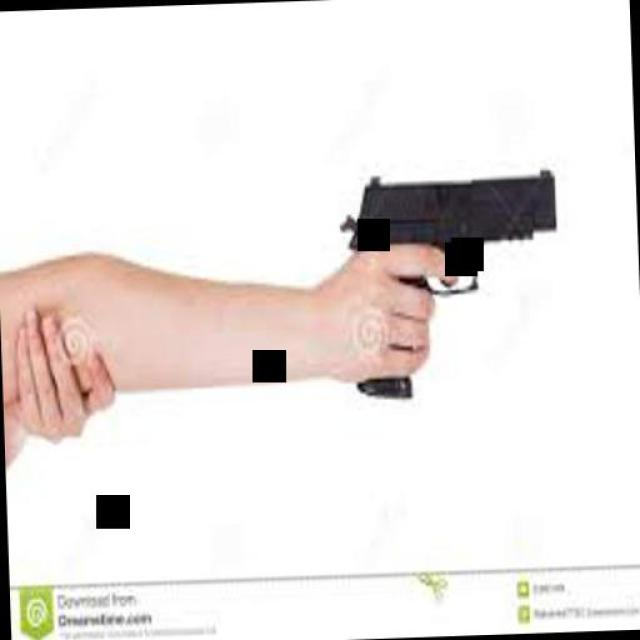gun: (338, 161, 566, 409)
